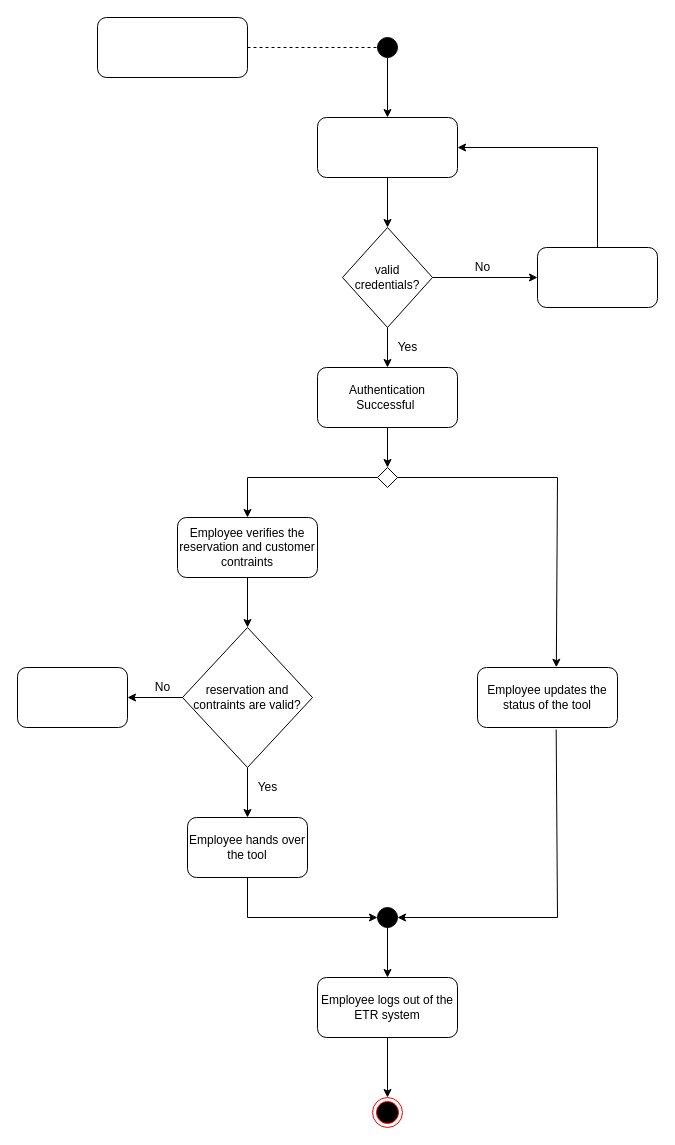
This 675x1145 diagram has some shape labels left out. The shapes that lost their labels are listed below. From the top down, each one's centre as x and y in pixels, then its label:
(172,47): Branch Employee is registred in the ETR System
(387,147): Branch employee tries to login to the system
(597,277): Incorrect login credentials
(72,697): Employee denies the request
